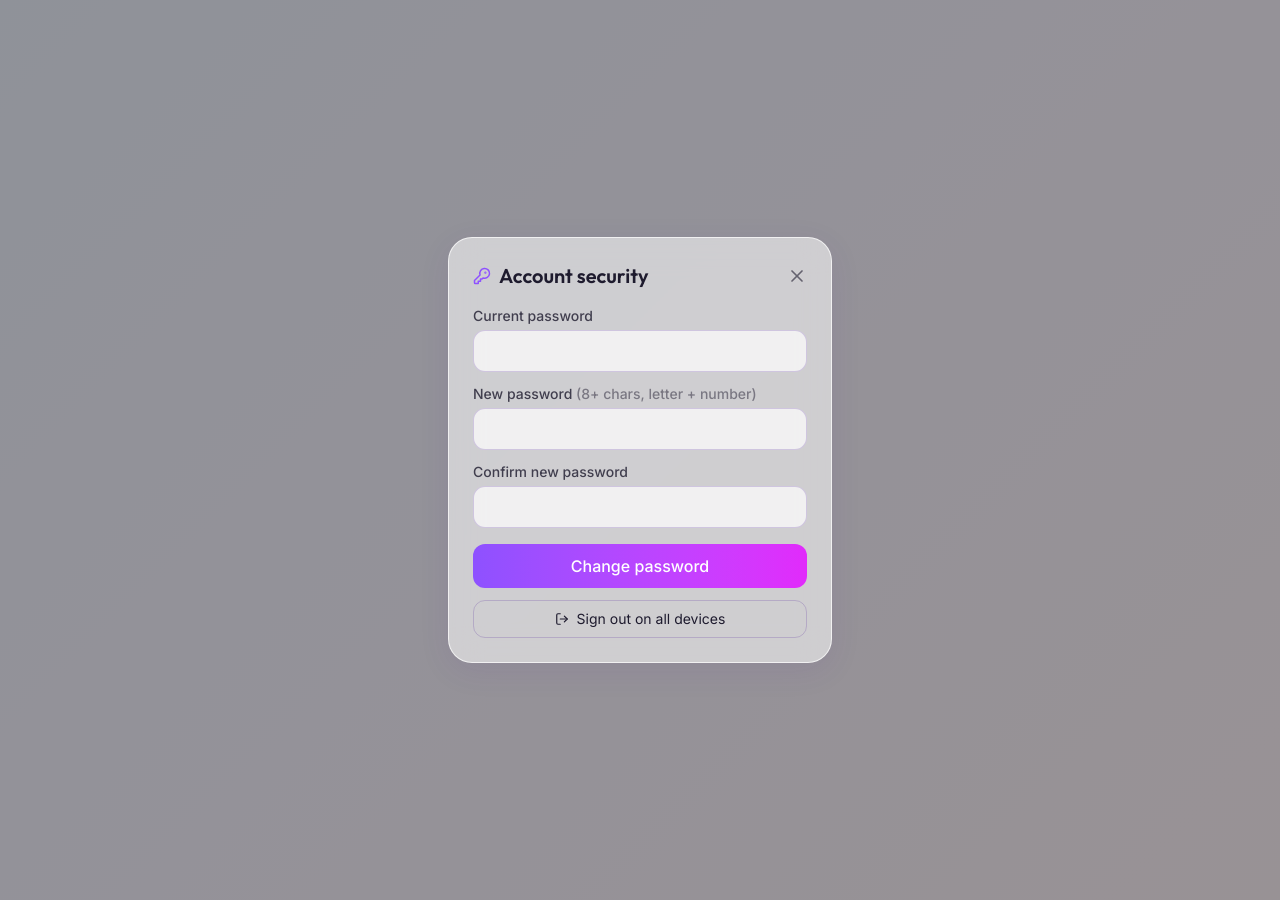
Test case: ChangePassword dialog › shows the server's error for a wrong current password
Type "wrongold1" into the password field labelled "Current password" at (640, 351), box [473,330,807,372]
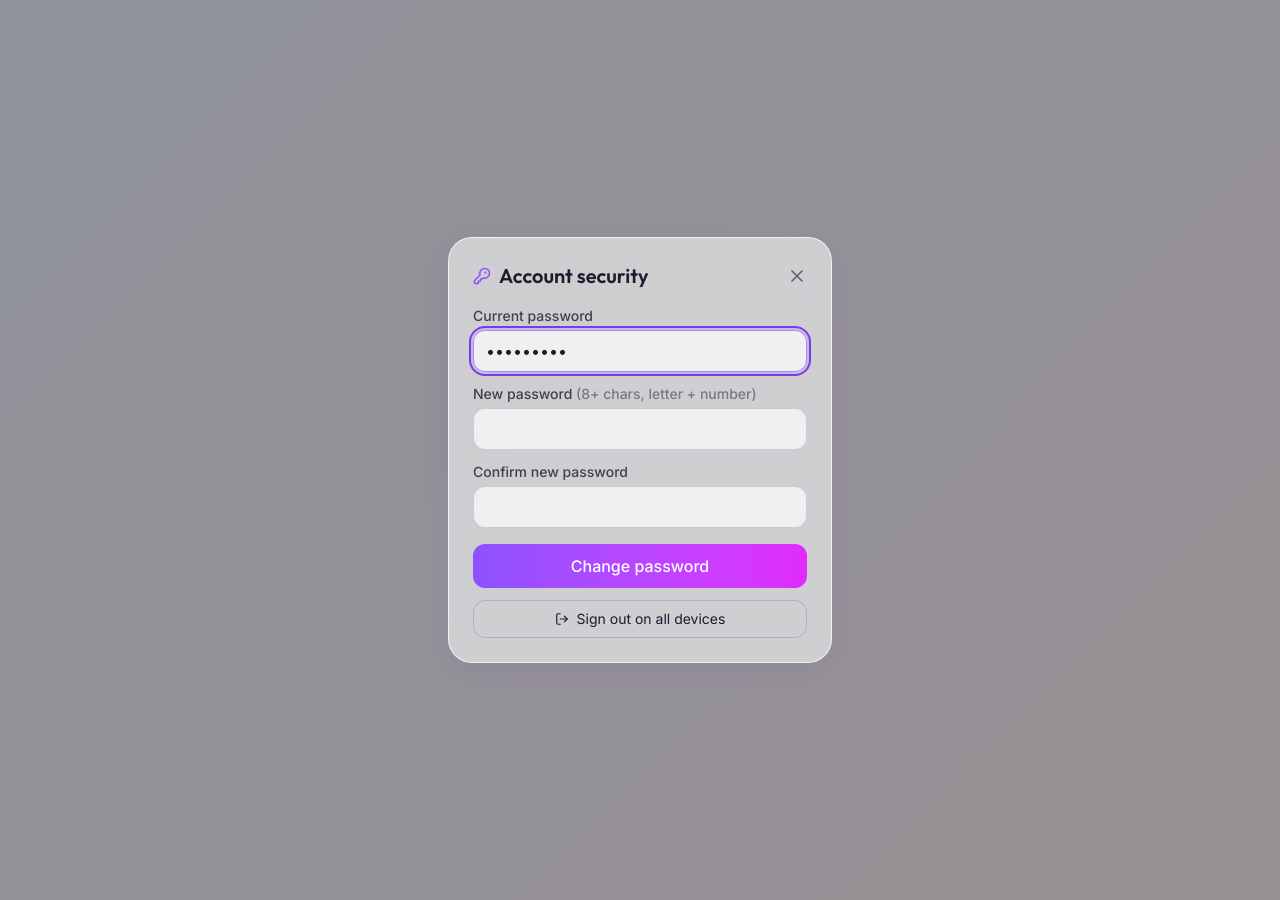
Type "newpass123" into the password field labelled "New password (8+ chars, letter + number)" at (640, 429), box [473,408,807,450]
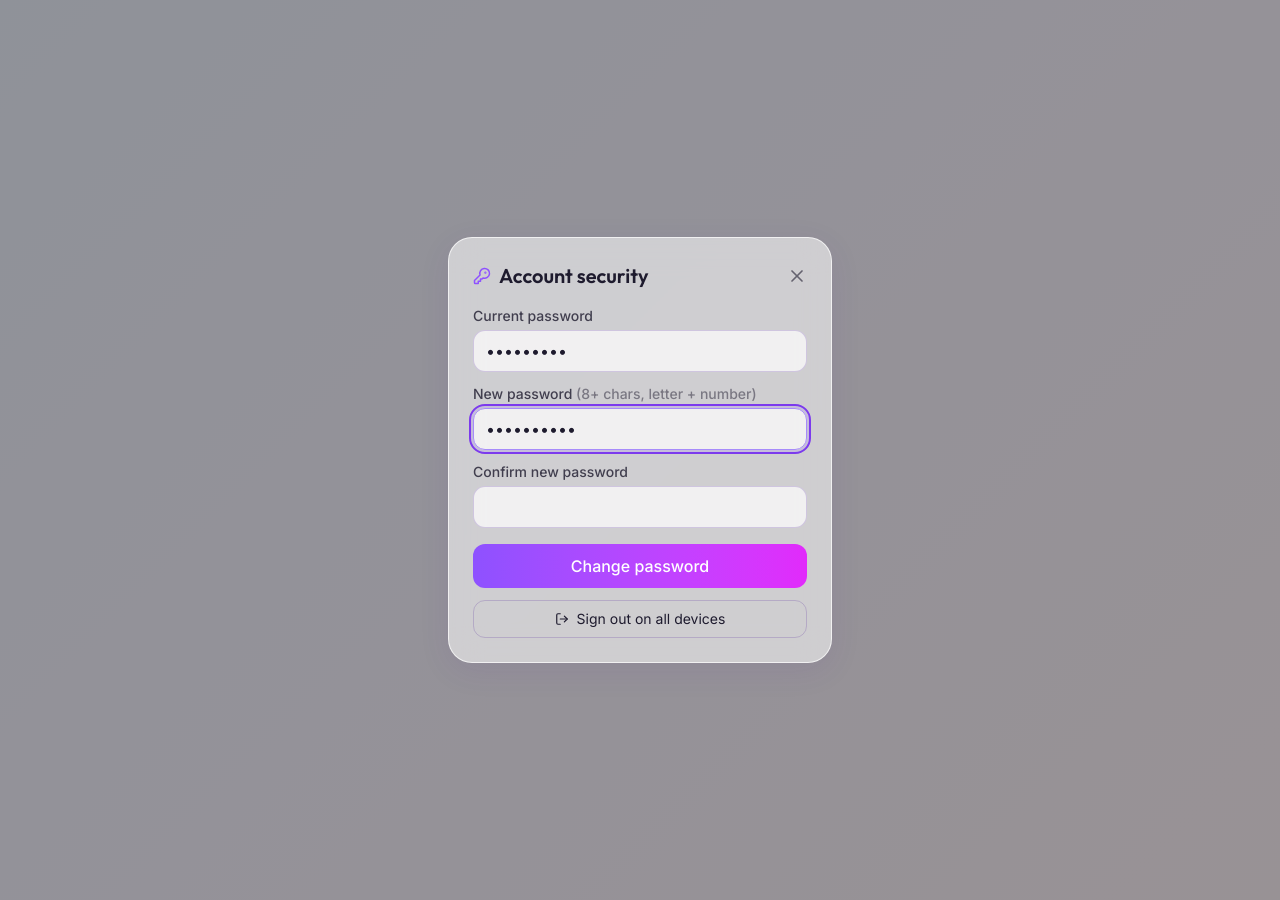
Type "newpass123" into the password field labelled "Confirm new password" at (640, 507), box [473,486,807,528]
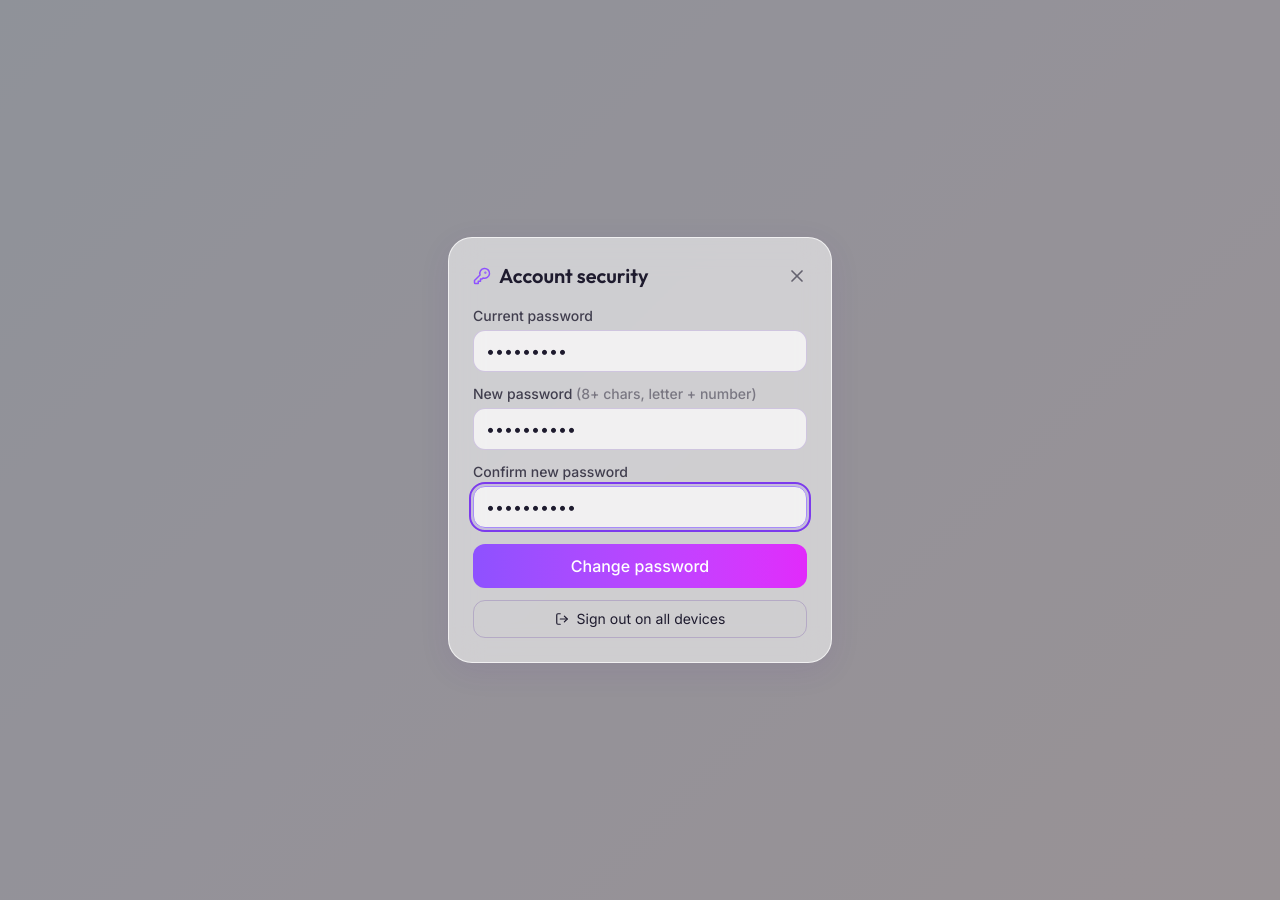
Click the button "Change password" at (640, 566), box [473,544,807,588]
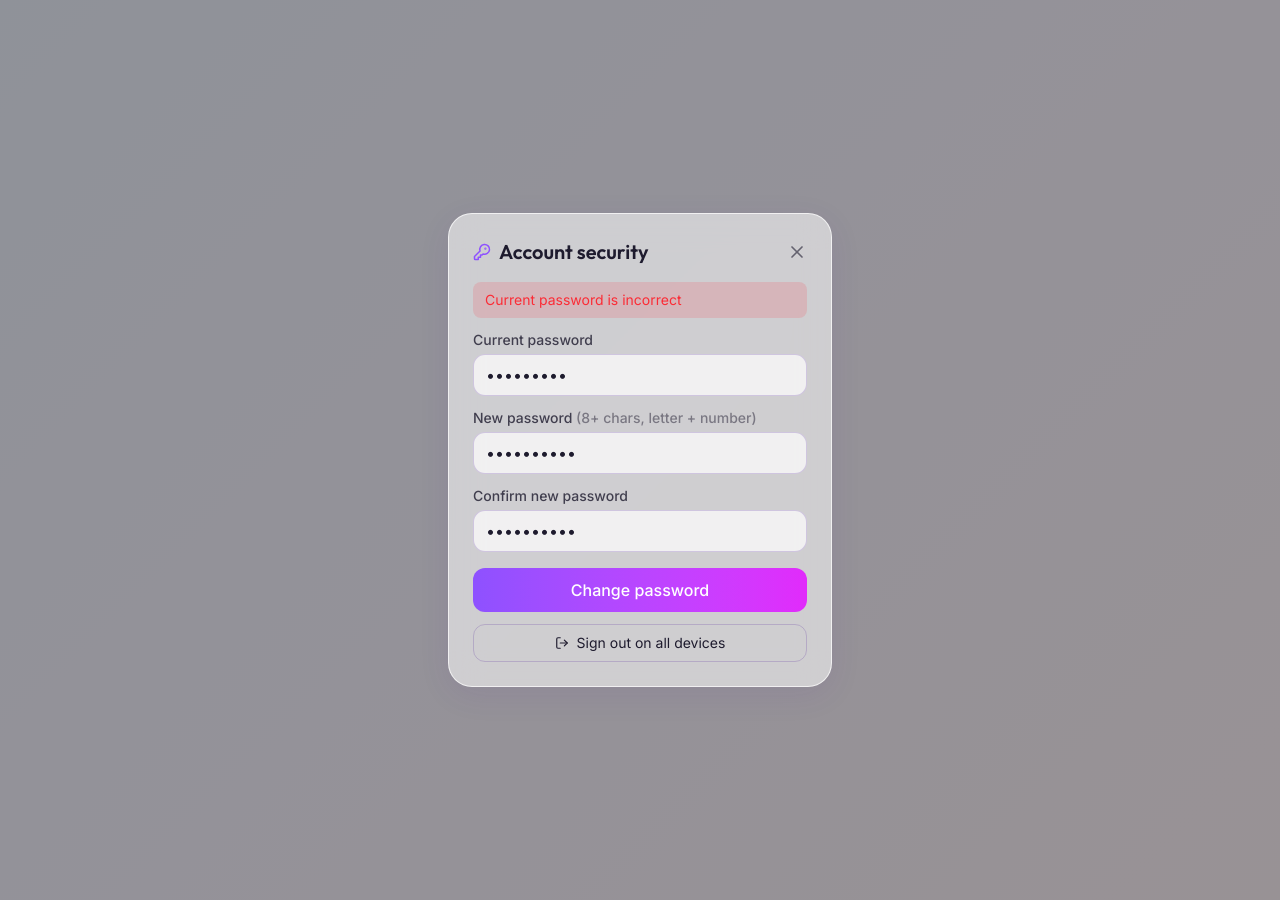
Result: the message reads "Current password is incorrect" at [485,291,682,308]
